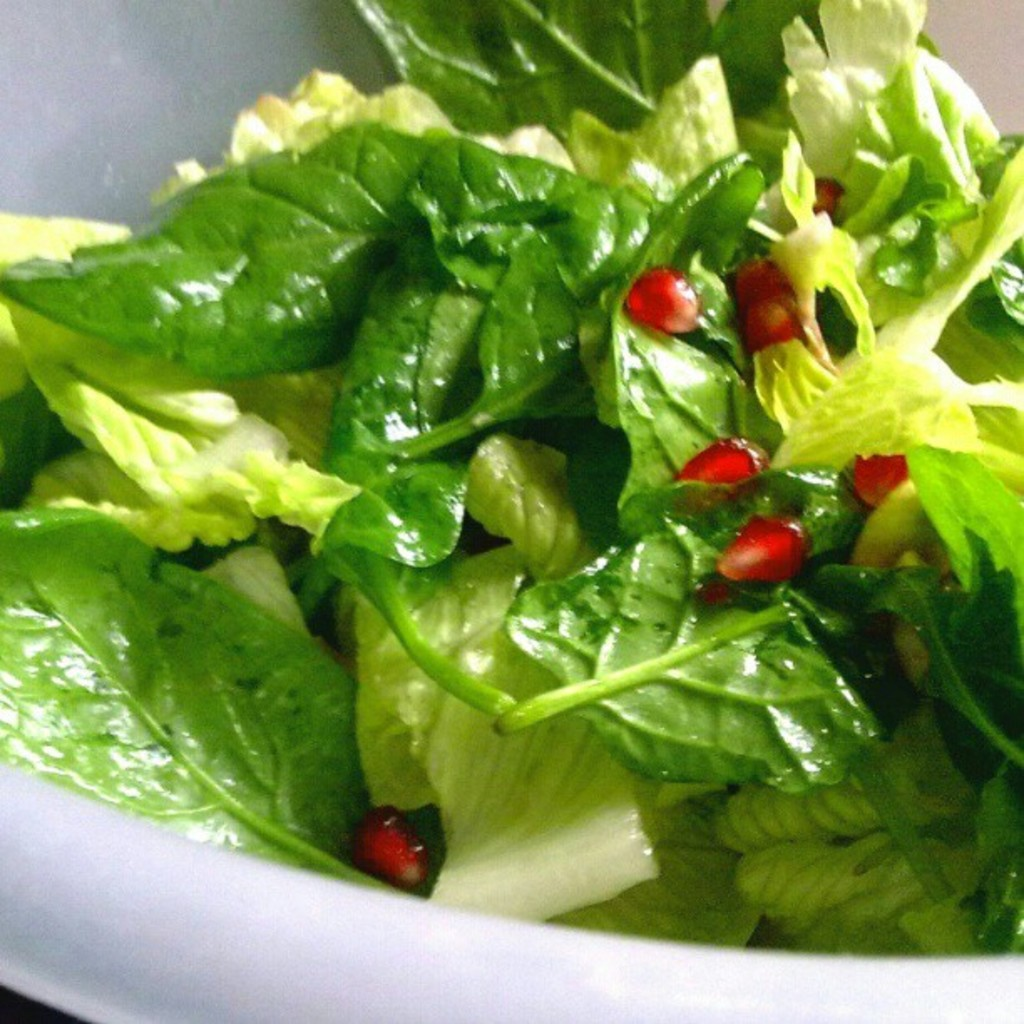salad: (0, 0, 1022, 947)
